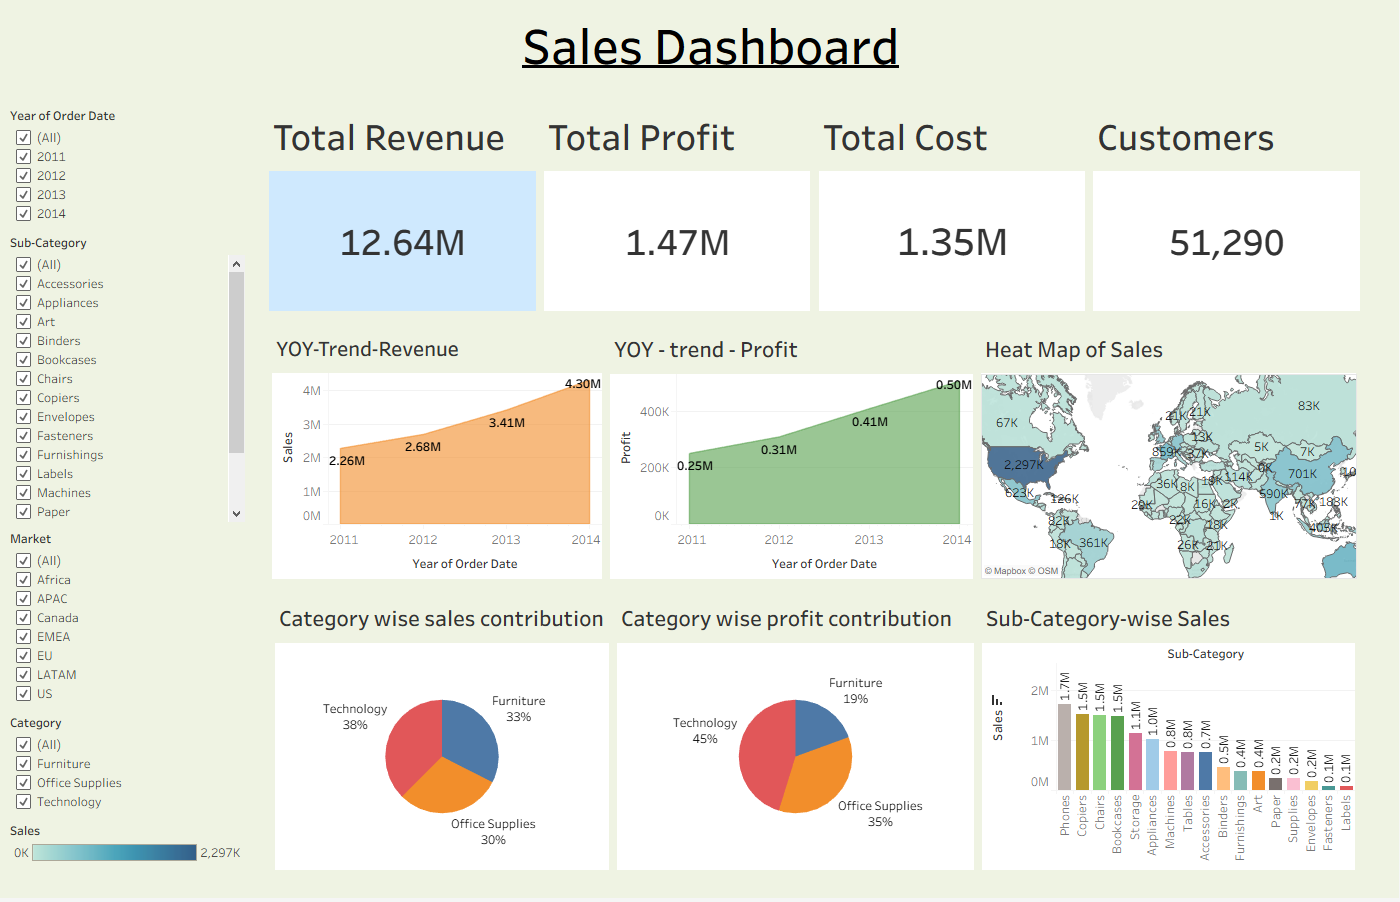

The page's visual inventory and layout, read from the dashboard file:
{"tool":"tableau","page":{"name":"Dashboard 1","canvas":[1400,900],"ordinal":0},"visuals":[{"type":"text","box":[51,14,1322,66]},{"type":"filter","title":"Total Revenue","param":"[federated.1k05x041idkfd71ft3i3313iv2gz].[yr:Order Date:ok]","box":[7,105,243,127]},{"type":"worksheet","title":"Total Revenue","mark":"Automatic","box":[266,106,274.8,211]},{"type":"worksheet","title":"Total Profit","mark":"Automatic","box":[540.8,106,274.8,211]},{"type":"worksheet","title":"Total Cost","mark":"Automatic","box":[815.5,106,274.8,211]},{"type":"worksheet","title":"Customer Count","mark":"Automatic","box":[1090.2,106,274.8,211]},{"type":"filter","title":"Total Revenue","param":"[federated.1k05x041idkfd71ft3i3313iv2gz].[none:Sub-Category:nk]","box":[7,232,243,296]},{"type":"worksheet","title":"YOY-trend - Revenue","mark":"Area","rows":["Sales"],"cols":["Order Date"],"box":[269,328,338.5,257]},{"type":"worksheet","title":"YOY-trend - Profit","mark":"Area","rows":["Profit"],"cols":["Order Date"],"box":[607.5,328,371,257]},{"type":"worksheet","title":"Heat map","mark":"Multipolygon","box":[978.5,328,384.5,257]},{"type":"filter","title":"Total Revenue","param":"[federated.1k05x041idkfd71ft3i3313iv2gz].[none:Market:nk]","box":[7,528,243,184]},{"type":"worksheet","title":"Category-wise-Sales","mark":"Pie","box":[272,597,342,279]},{"type":"worksheet","title":"cat-profit","mark":"Pie","box":[614,597,365,279]},{"type":"worksheet","title":"sub-cat-sales","mark":"Automatic","rows":["Sales"],"cols":["Sub-Category"],"box":[979,597,381,279]},{"type":"filter","title":"Total Revenue","param":"[federated.1k05x041idkfd71ft3i3313iv2gz].[none:Category:nk]","box":[7,712,243,108]},{"type":"legend","title":"Heat map","param":"[federated.1k05x041idkfd71ft3i3313iv2gz].[sum:Sales:qk]","box":[7,820,243,65]}]}

Visuals, with their boxes in screenshot pixels (x1, y1, x2, y2), scaled from the page's 1400x900 canvas onto the 1400x902 screenshot:
text: [left=51, top=14, right=1373, bottom=80]
"Total Revenue" filter: [left=7, top=105, right=250, bottom=233]
"Total Revenue" worksheet: [left=266, top=106, right=541, bottom=318]
"Total Profit" worksheet: [left=541, top=106, right=816, bottom=318]
"Total Cost" worksheet: [left=816, top=106, right=1090, bottom=318]
"Customer Count" worksheet: [left=1090, top=106, right=1365, bottom=318]
"Total Revenue" filter: [left=7, top=233, right=250, bottom=529]
"YOY-trend - Revenue" worksheet (Area marks): [left=269, top=329, right=608, bottom=586]
"YOY-trend - Profit" worksheet (Area marks): [left=608, top=329, right=978, bottom=586]
"Heat map" worksheet (Multipolygon marks): [left=978, top=329, right=1363, bottom=586]
"Total Revenue" filter: [left=7, top=529, right=250, bottom=714]
"Category-wise-Sales" worksheet (Pie marks): [left=272, top=598, right=614, bottom=878]
"cat-profit" worksheet (Pie marks): [left=614, top=598, right=979, bottom=878]
"sub-cat-sales" worksheet: [left=979, top=598, right=1360, bottom=878]
"Total Revenue" filter: [left=7, top=714, right=250, bottom=822]
"Heat map" legend: [left=7, top=822, right=250, bottom=887]
